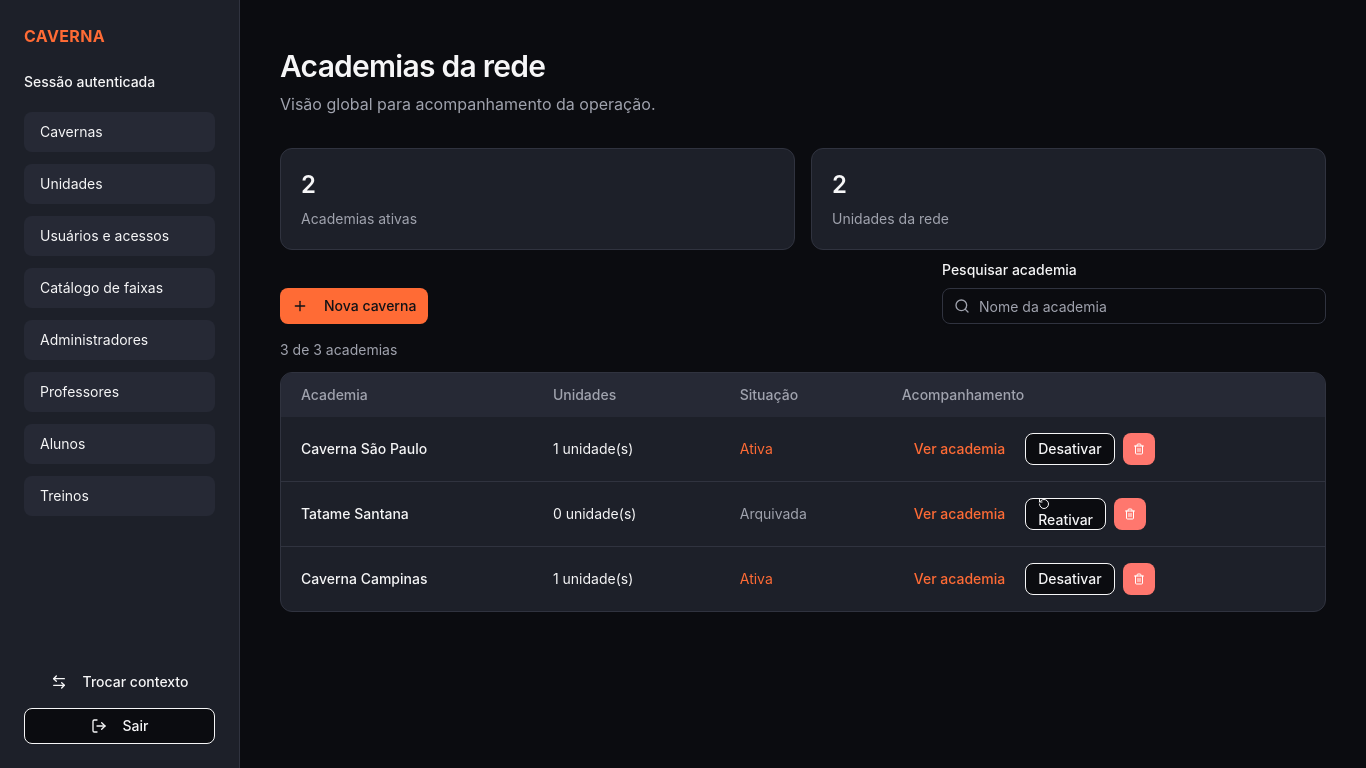
Test: filters every loaded academy by name, case and accents without changing totals
This screenshot has width=1366, height=768.
Expected: the number of rows is 4, top-left (281, 373), bottom-right (1325, 417); top-left (281, 417), bottom-right (1325, 482); top-left (281, 482), bottom-right (1325, 546); top-left (281, 546), bottom-right (1325, 611)
Step 1. Type "  SAO PAULO  " into the search field labelled "Pesquisar academia" → [1134, 306], box top-left (942, 288), bottom-right (1326, 324)
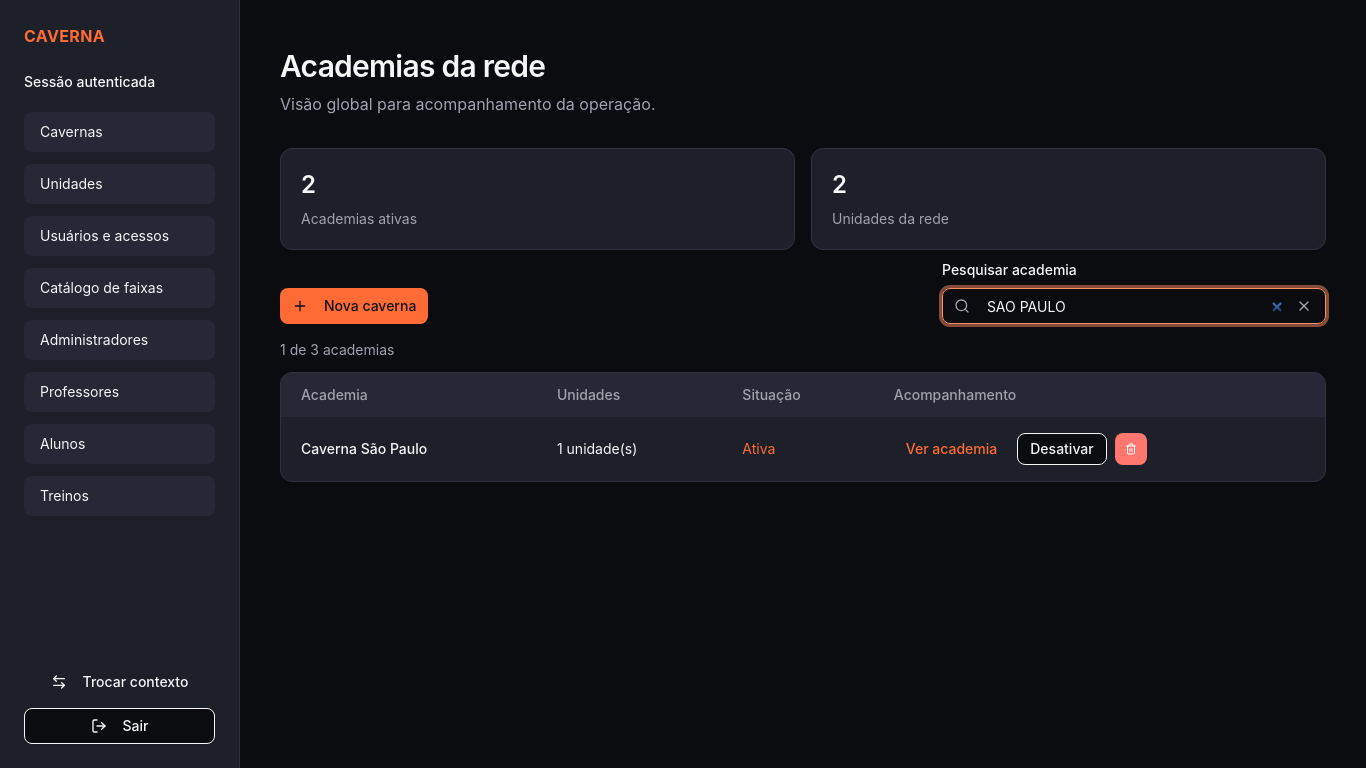
Expected: the text "Caverna São Paulo" is shown, top-left (281, 417), bottom-right (537, 481)
Expected: the number of rows is 2, top-left (281, 373), bottom-right (1325, 417); top-left (281, 417), bottom-right (1325, 481)
Expected: the text "1 de 3 academias" is shown, top-left (280, 341), bottom-right (394, 358)
Step 2. Click the button named "Limpar pesquisa" → [1304, 306], box top-left (1290, 292), bottom-right (1318, 320)
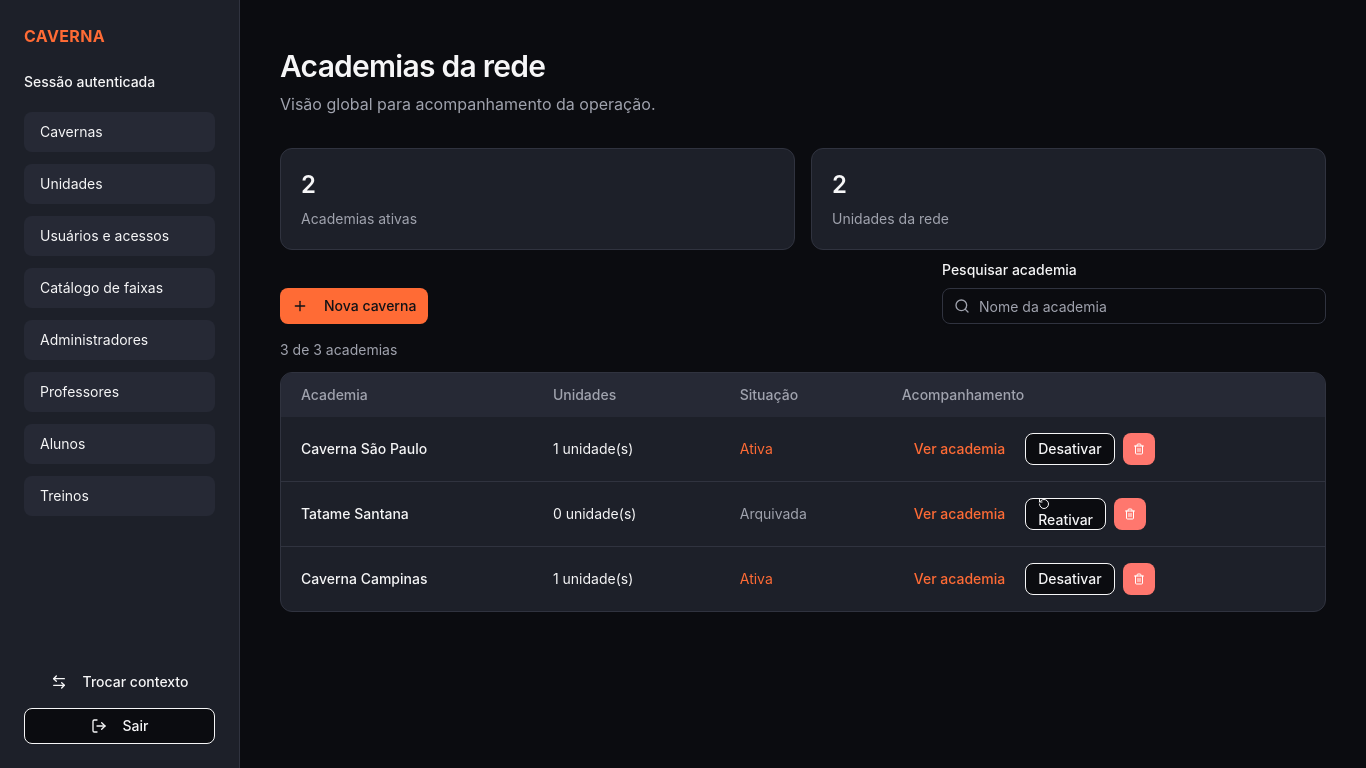
Expected: the number of rows is 4, top-left (281, 373), bottom-right (1325, 417); top-left (281, 417), bottom-right (1325, 482); top-left (281, 482), bottom-right (1325, 546); top-left (281, 546), bottom-right (1325, 611)
